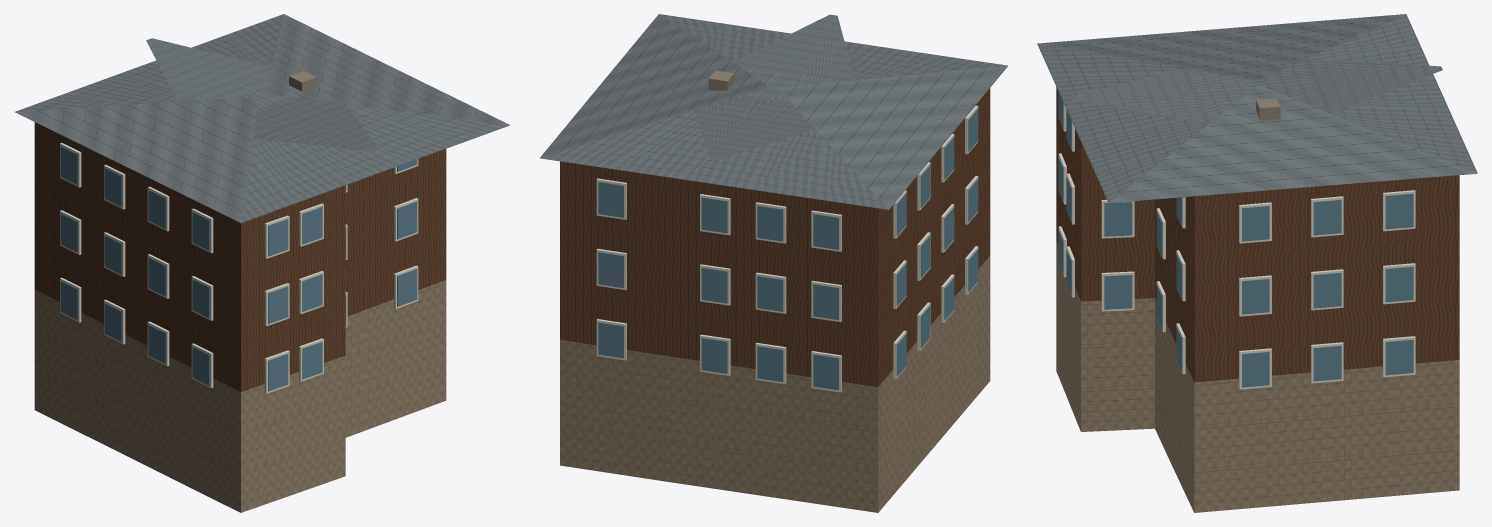
File: core_0023.gltf
The picture shows the model from 3 angles, left to right: view 1: azimuth 30°, elevation 25°; view 2: azimuth 150°, elevation 25°; view 3: azimuth 270°, elevation 25°; orthographic projection. The views are drawn at different scales.
Visible parts, largest first — view 1: core_0023; view 2: core_0023; view 3: core_0023.
Part boxes in pixels (x1=…): core_0023: x1=15, y1=14, x2=509, y2=512; core_0023: x1=540, y1=14, x2=1007, y2=512; core_0023: x1=1037, y1=14, x2=1477, y2=512.
Size of the model in its own units: 15.85 by 13.75 by 15.61.
Materials: 6 (6 with a texture image).
